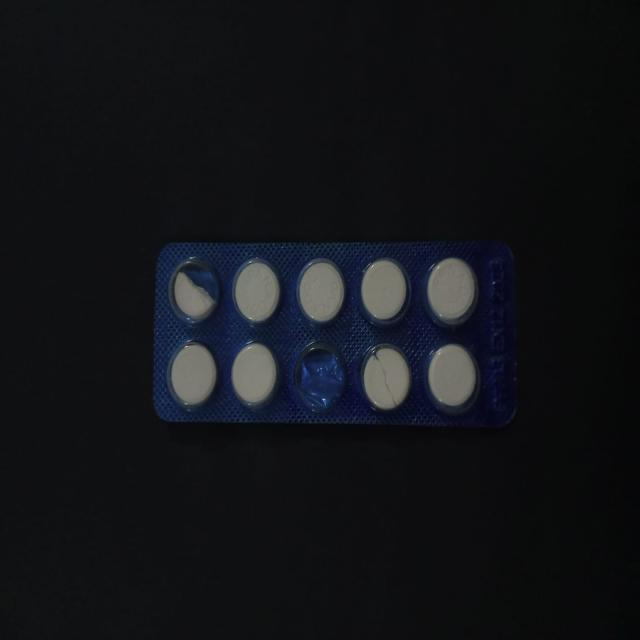defect: (292, 336, 350, 418), (358, 339, 416, 416), (166, 254, 224, 328)
